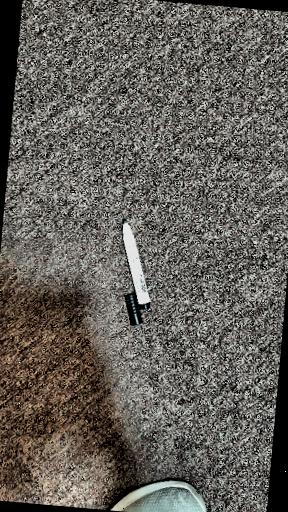marcador negro: (122, 218, 150, 309)
